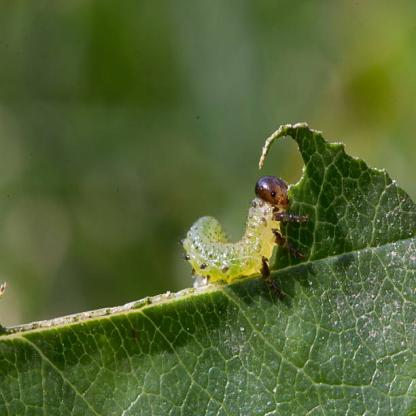sawfly: (176, 174, 314, 310)
